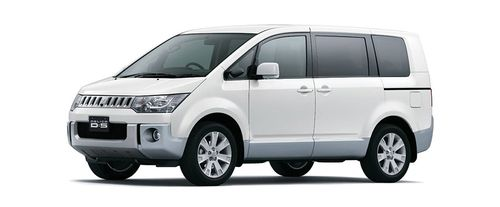van: (64, 20, 436, 186)
